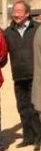boots: (15, 139, 33, 147), (0, 144, 10, 151)
